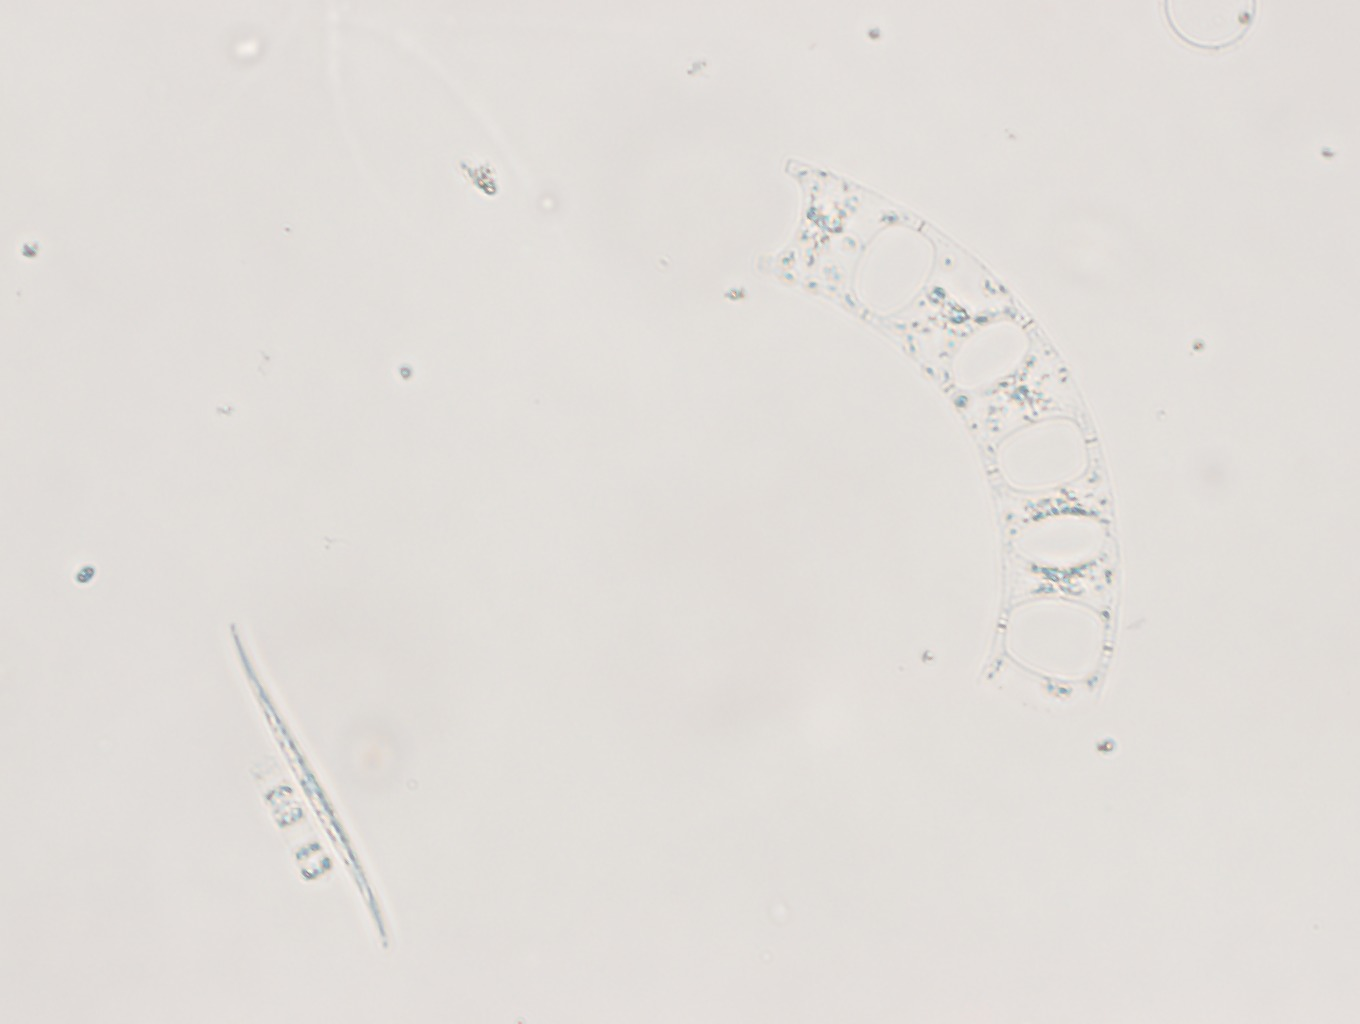eucampia: (773, 150, 1126, 743)
pleurosigma pelagicum: (226, 624, 407, 956)
